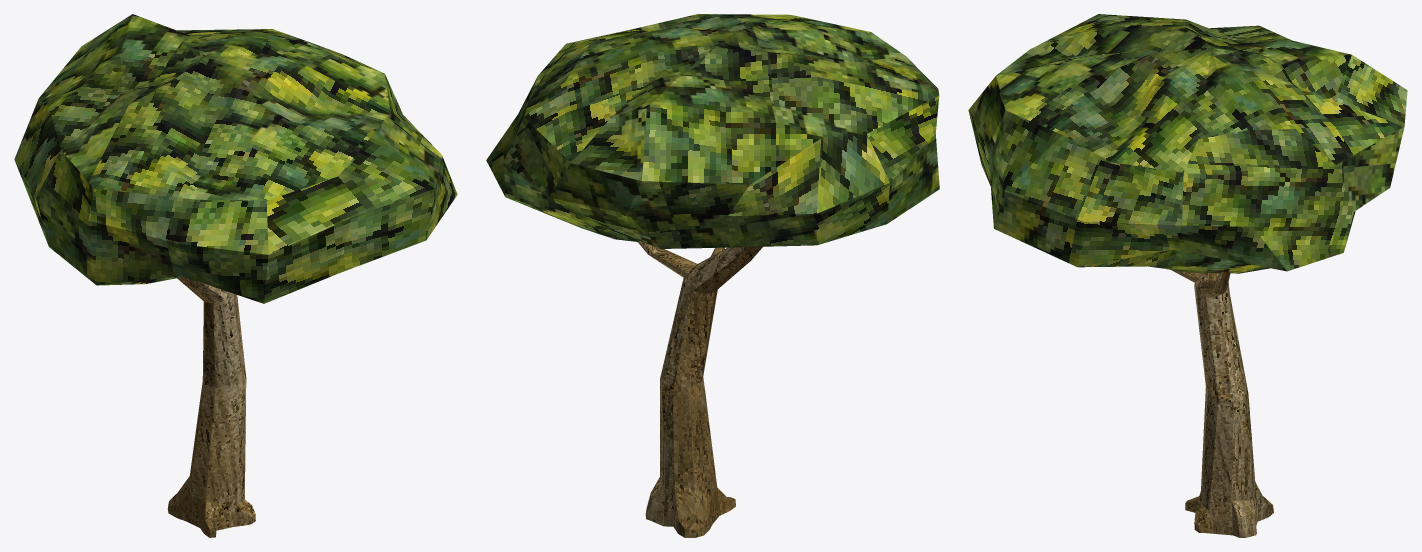
File: leafy_tree_3.gltf
The picture shows the model from 3 angles, left to right: view 1: azimuth 30°, elevation 25°; view 2: azimuth 150°, elevation 25°; view 3: azimuth 270°, elevation 25°; orthographic projection.
Parts seen in each view (by area): view 1: Leaves, Trunk-col; view 2: Leaves, Trunk-col, Branch.001; view 3: Leaves, Trunk-col, Branch.001.
Boxes of the visible parts, x1=… form: Leaves: x1=14, y1=14, x2=457, y2=303; Trunk-col: x1=167, y1=277, x2=255, y2=537; Leaves: x1=486, y1=14, x2=939, y2=248; Trunk-col: x1=645, y1=246, x2=762, y2=537; Branch.001: x1=638, y1=242, x2=697, y2=277; Leaves: x1=968, y1=14, x2=1407, y2=273; Trunk-col: x1=1185, y1=273, x2=1273, y2=537; Branch.001: x1=1200, y1=271, x2=1230, y2=297.
Size of the model in its own units: 5.3 by 6.56 by 5.58.
Materials: 2 (2 with a texture image).
